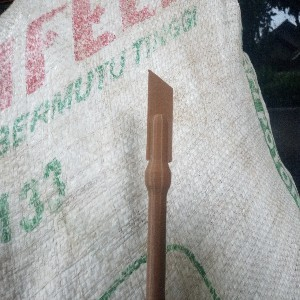cutter: (143, 68, 174, 300)
